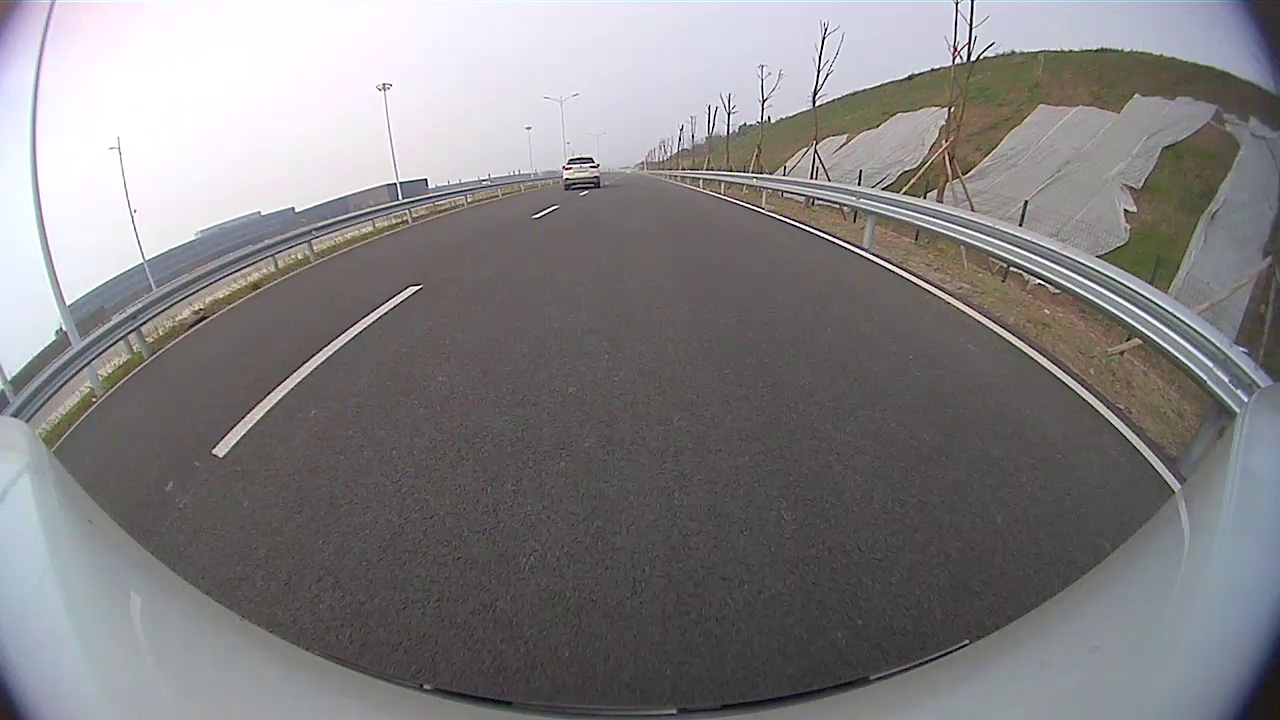car: (562, 156, 602, 191)
